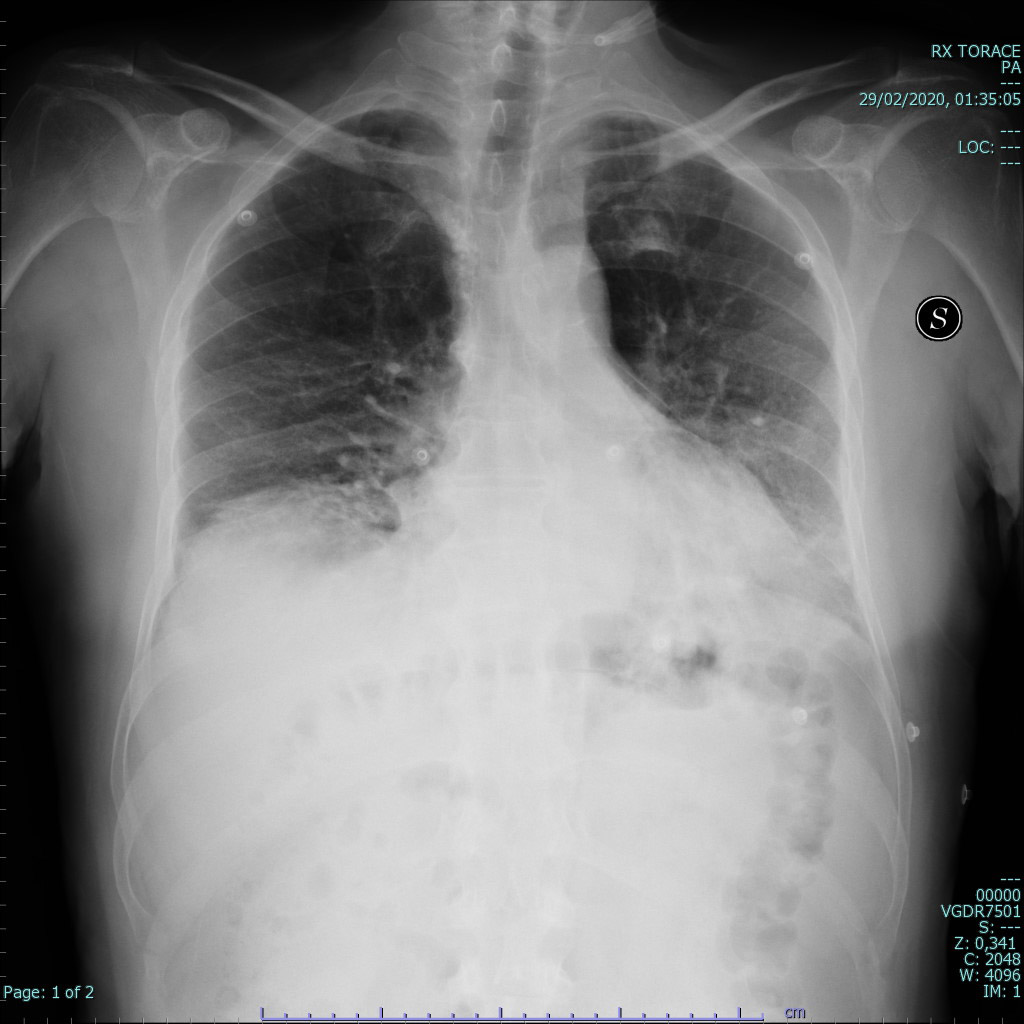Mildw: (178, 99, 467, 546), (557, 110, 841, 530)
